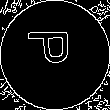P_E: (29, 36, 81, 74)
